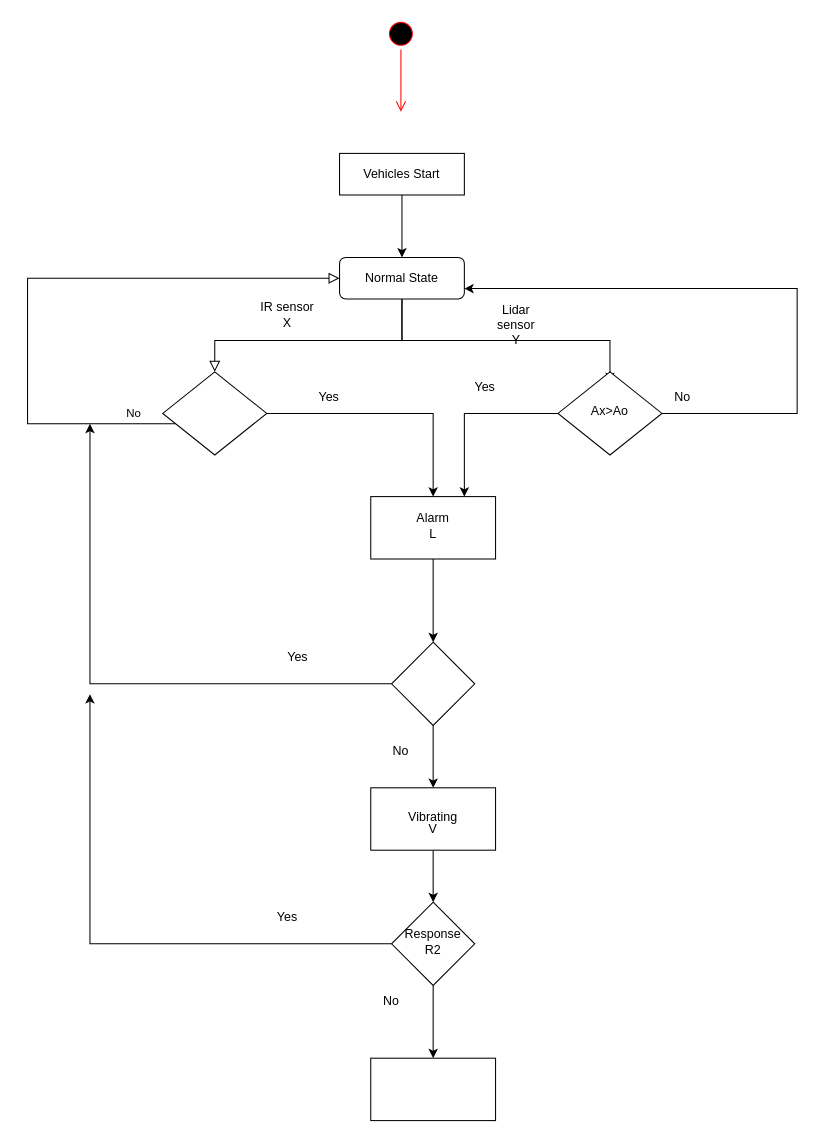
Some shapes in this 824 by 1139 pixel diagram are drawn without their labels. The centre of each missing label's shape, as x and y in pixels:
"Response R1" belongs at [433,683].
"Tx>To" belongs at [214,413].
"Vehcle Auto TakeOver" belongs at [433,1089].
